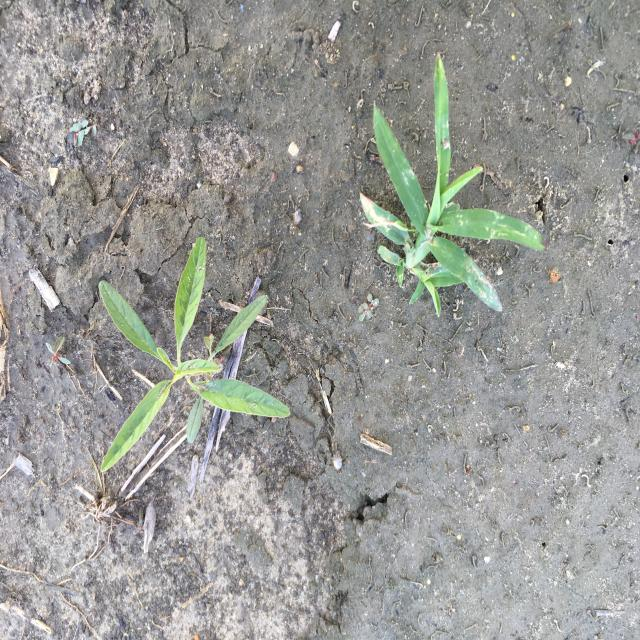Goosegrass: (358, 50, 550, 318)
Waterhemp: (97, 236, 293, 474)
